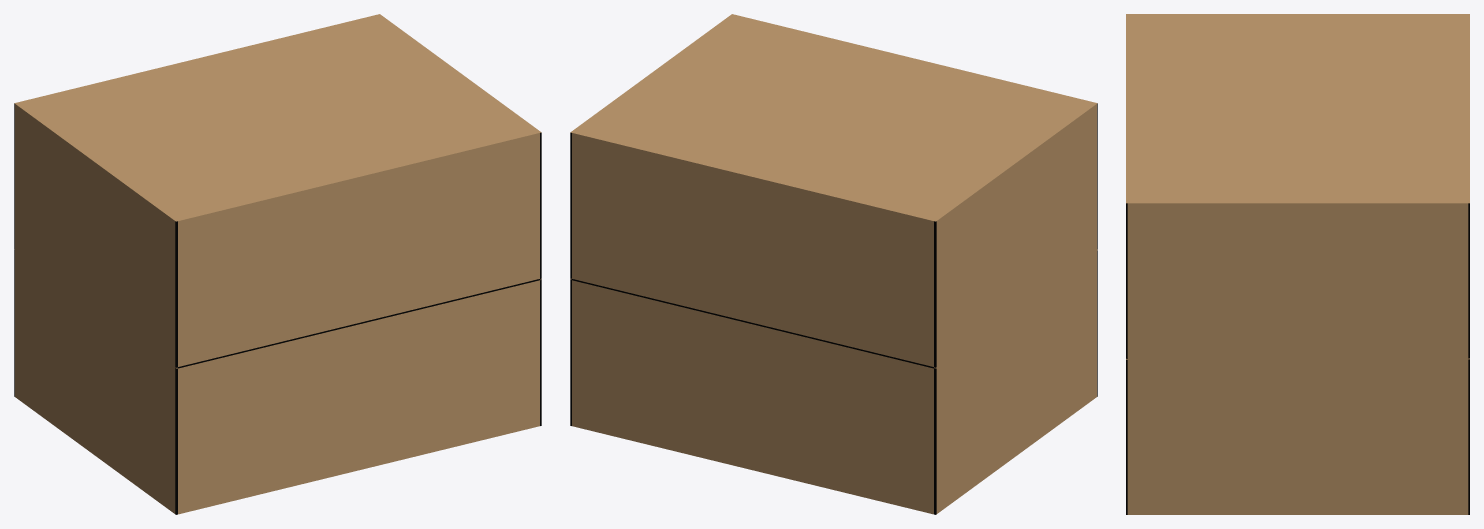
The model's file is Box-closed.fbx.
3 renders of one model, left to right at view 1: azimuth 30°, elevation 25°; view 2: azimuth 150°, elevation 25°; view 3: azimuth 270°, elevation 25°, orthographic. The views are drawn at different scales.
Parts seen in each view (by area): view 1: Box-closed; view 2: Box-closed; view 3: Box-closed.
Boxes of the visible parts, bbox=[...] form: Box-closed: bbox=[14, 14, 541, 514]; Box-closed: bbox=[570, 14, 1097, 514]; Box-closed: bbox=[1126, 14, 1469, 514].
Bounding box in the file's own units: 6000 × 4600 × 4600.
